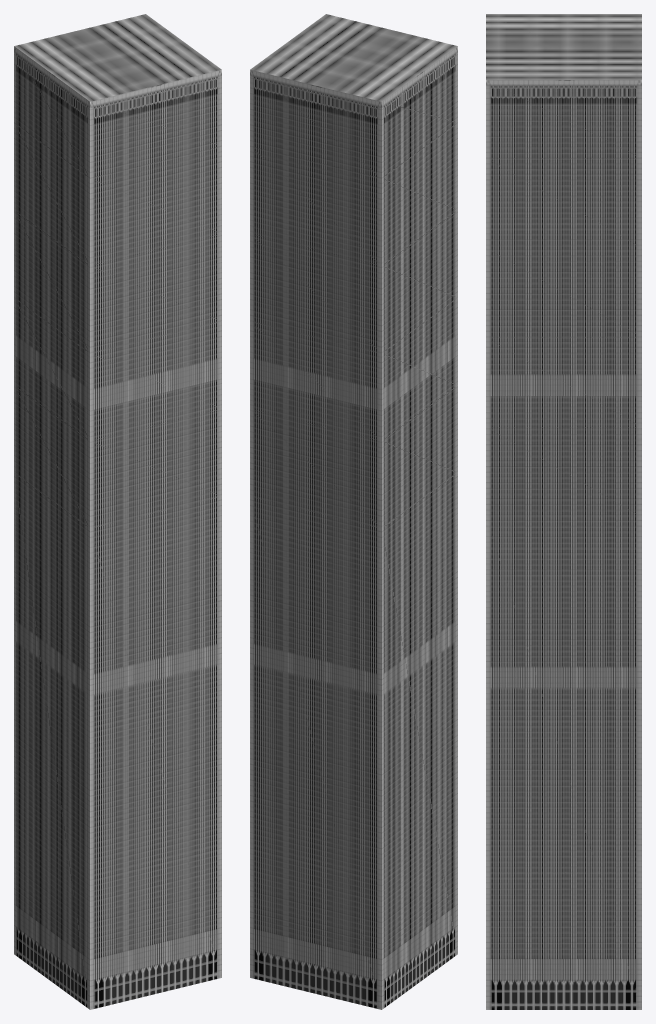
File: Tower_S.obj
The picture shows the model from 3 angles, left to right: view 1: azimuth 30°, elevation 25°; view 2: azimuth 150°, elevation 25°; view 3: azimuth 270°, elevation 25°; orthographic projection. The views are drawn at different scales.
Visible parts, largest first — view 1: Cube.002; view 2: Cube.002; view 3: Cube.002.
Boxes of the visible parts, box(x1,y1,x2,y2) form: Cube.002: box(14, 14, 221, 1009); Cube.002: box(250, 14, 457, 1009); Cube.002: box(486, 14, 641, 1009).
Size of the model in its own units: 6.3 by 41.5 by 6.3.
